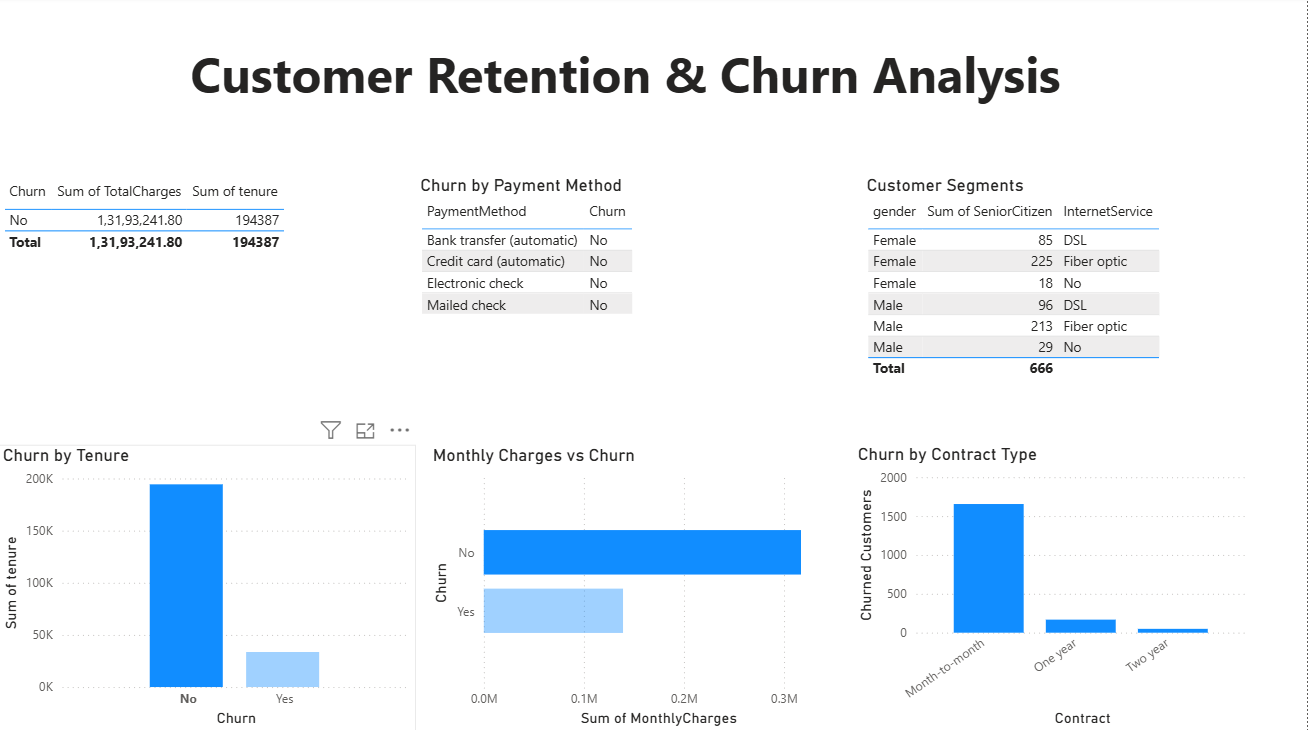

The page's visual inventory and layout, read from the dashboard file:
{"tool":"powerbi","page":{"name":"Page 1","canvas":[1280,720],"ordinal":0},"visuals":[{"type":"tableEx","fields":{"Values":["WA_Fn-UseC_-Telco-Customer-Churn (2).Churn","Sum(WA_Fn-UseC_-Telco-Customer-Churn (2).TotalCharges)","Sum(WA_Fn-UseC_-Telco-Customer-Churn (2).tenure)"]},"box":[0,174.4,408.2,264.6],"z":0},{"type":"clusteredColumnChart","title":"Churn by Contract Type","fields":{"Category":["WA_Fn-UseC_-Telco-Customer-Churn (2).Contract"],"Y":["WA_Fn-UseC_-Telco-Customer-Churn (2).Churned Customers"]},"box":[836,438,392,282],"z":3},{"type":"clusteredColumnChart","title":"Churn by Tenure","fields":{"Y":["Sum(WA_Fn-UseC_-Telco-Customer-Churn (2).tenure)"],"Category":["WA_Fn-UseC_-Telco-Customer-Churn (2).Churn"]},"box":[0,439,408.2,281],"z":4},{"type":"tableEx","title":"Churn by Payment Method","fields":{"Values":["WA_Fn-UseC_-Telco-Customer-Churn (2).PaymentMethod","WA_Fn-UseC_-Telco-Customer-Churn (2).Churn"]},"box":[408.2,174.4,428.7,240],"z":5},{"type":"barChart","title":"Monthly Charges vs Churn","fields":{"Y":["Sum(WA_Fn-UseC_-Telco-Customer-Churn (2).MonthlyCharges)"],"Category":["WA_Fn-UseC_-Telco-Customer-Churn (2).Churn"]},"box":[420.5,439,416.4,281],"z":6},{"type":"tableEx","title":"Customer Segments","fields":{"Values":["WA_Fn-UseC_-Telco-Customer-Churn (2).gender","Sum(WA_Fn-UseC_-Telco-Customer-Churn (2).SeniorCitizen)","WA_Fn-UseC_-Telco-Customer-Churn (2).InternetService"]},"box":[845.1,174.4,428.7,240],"z":7},{"type":"textbox","box":[0,38,1228,106],"z":8}]}

Visuals, with their boxes in screenshot pixels (x1, y1, x2, y2), scaled from the page's 1280x720 canvas onto the 1308x730 screenshot:
tableEx - WA_Fn-UseC_-Telco-Customer-Churn (2).Churn x Sum(WA_Fn-UseC_-Telco-Customer-Churn (2).TotalCharges): region(0, 177, 417, 445)
"Churn by Contract Type" clusteredColumnChart: region(854, 444, 1255, 729)
"Churn by Tenure" clusteredColumnChart: region(0, 445, 417, 729)
"Churn by Payment Method" tableEx: region(417, 177, 855, 420)
"Monthly Charges vs Churn" barChart: region(430, 445, 855, 729)
"Customer Segments" tableEx: region(864, 177, 1302, 420)
textbox: region(0, 39, 1255, 146)
